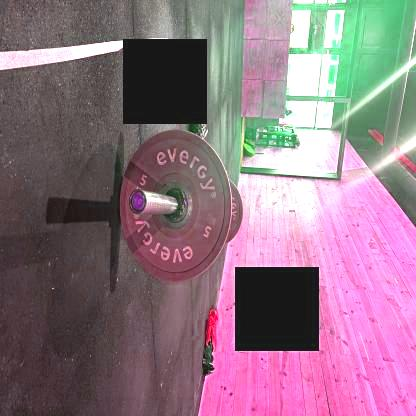barbell: (98, 245, 213, 398)
